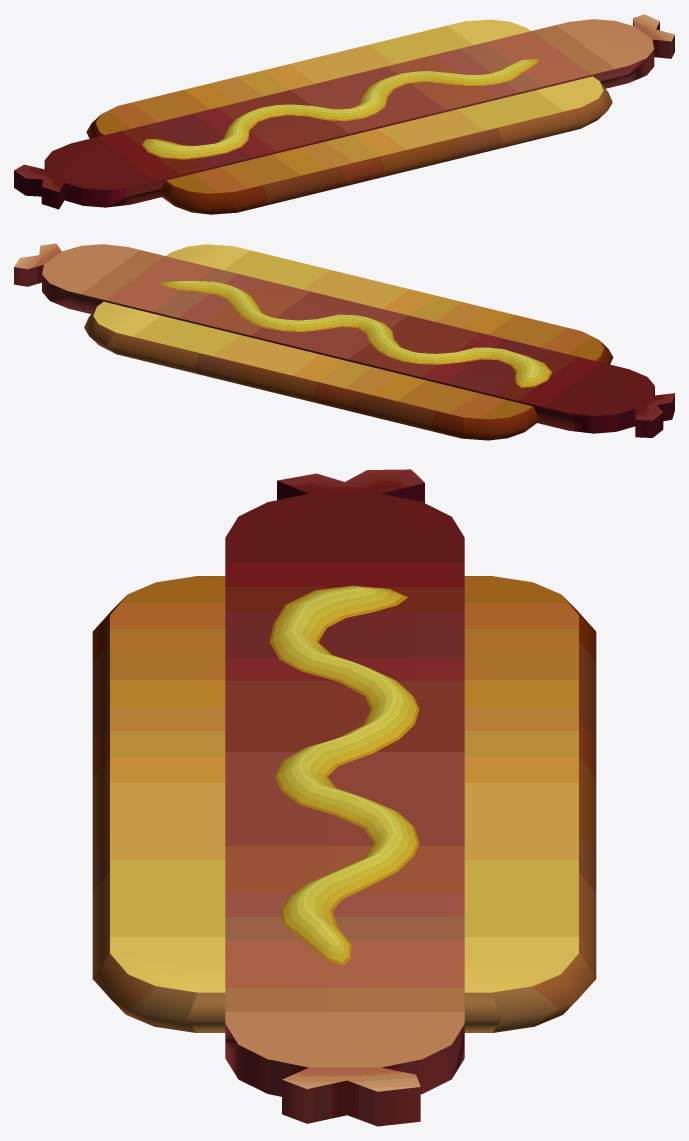
The model's file is chicagoBoard01.glb.
The picture shows the model from 3 angles, top to bottom: view 1: azimuth 30°, elevation 25°; view 2: azimuth 150°, elevation 25°; view 3: azimuth 270°, elevation 25°; orthographic projection. The views are drawn at different scales.
Parts seen in each view (by area): view 1: chicagoBoard01; view 2: chicagoBoard01; view 3: chicagoBoard01.
Part boxes in pixels (x1,y1,x2,y2): chicagoBoard01: [14, 14, 674, 214]; chicagoBoard01: [14, 243, 674, 440]; chicagoBoard01: [92, 469, 596, 1126].
Bounding box in the file's own units: 15.57 × 1.08 × 5.33.
Materials: 1 (1 with a texture image).
